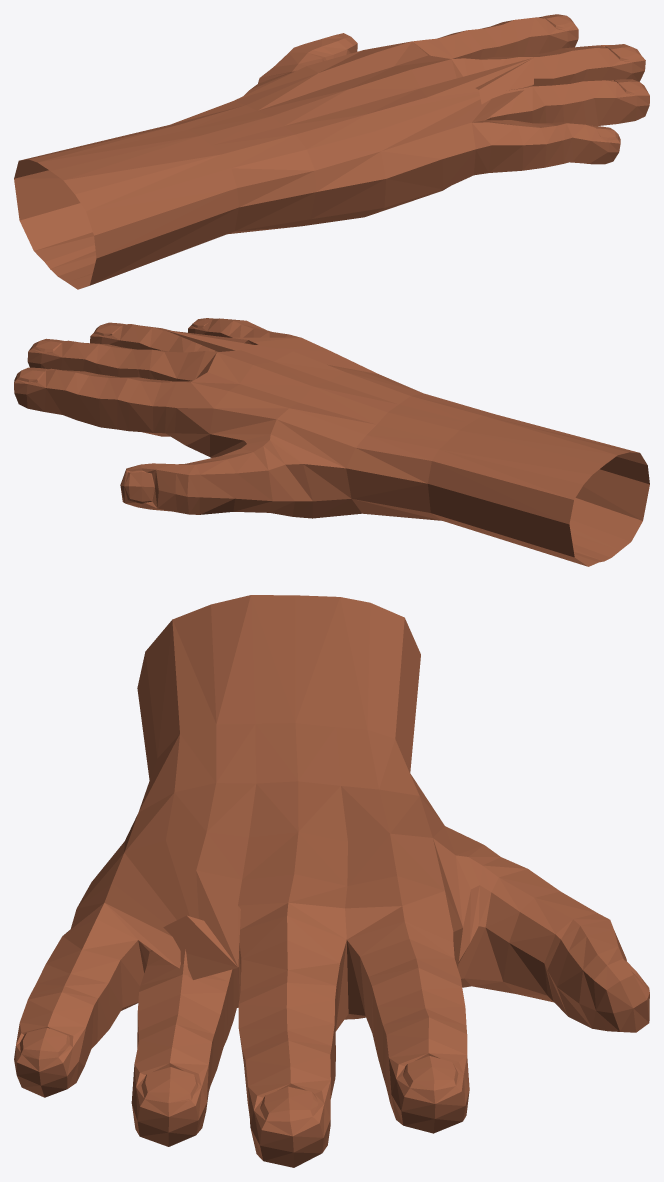
The model's file is hand 1.FBX.
3 views of the same model, one above another, from view 1: azimuth 30°, elevation 25°; view 2: azimuth 150°, elevation 25°; view 3: azimuth 270°, elevation 25° (orthographic). The views are drawn at different scales.
Parts seen in each view (by area): view 1: Cube.000; view 2: Cube.000; view 3: Cube.000.
Boxes of the visible parts, x1,y1,x2,y2 form: Cube.000: (14, 14, 649, 289); Cube.000: (14, 318, 649, 566); Cube.000: (14, 595, 649, 1167).
Size of the model in its own units: 0.2575 by 0.0486 by 0.1398.
